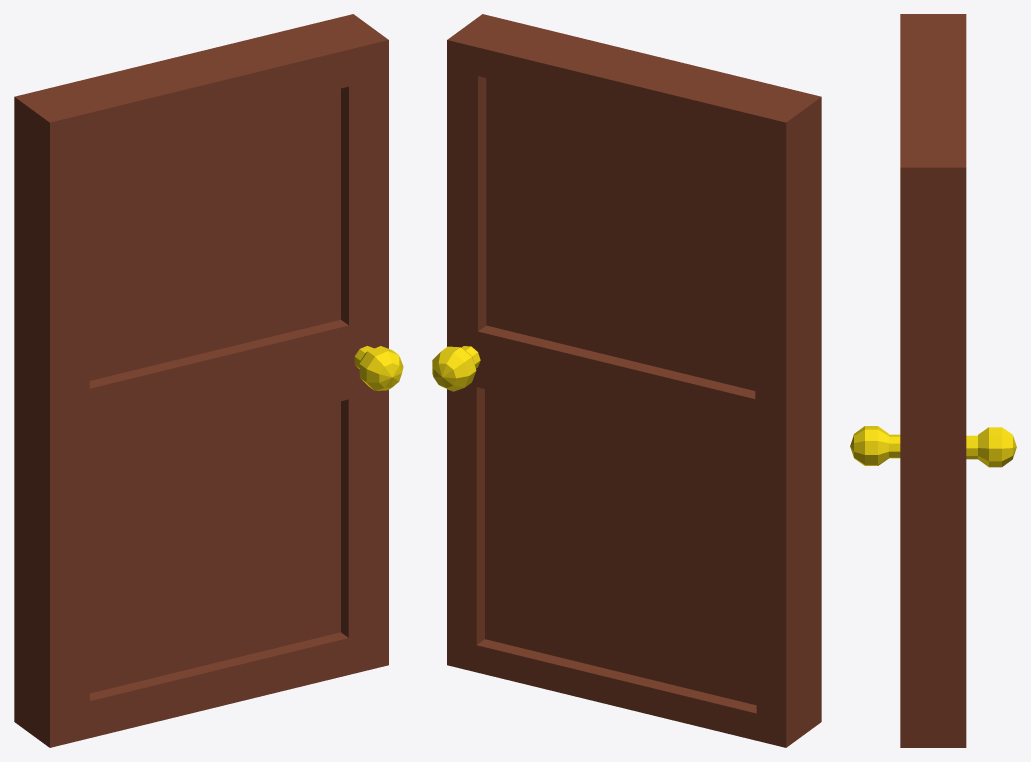
The model's file is Puerta.fbx.
3 renders of one model, left to right at view 1: azimuth 30°, elevation 25°; view 2: azimuth 150°, elevation 25°; view 3: azimuth 270°, elevation 25°, orthographic. The views are drawn at different scales.
Parts seen in each view (by area): view 1: pSphere4 (×2); view 2: pSphere4 (×2); view 3: pSphere4 (×2).
Boxes of the visible parts, x1,y1,x2,y2 form: pSphere4 (×2): (14, 14, 403, 747); pSphere4 (×2): (432, 14, 821, 747); pSphere4 (×2): (850, 14, 1016, 747).
Bounding box in the file's own units: 3.7 × 6.52 × 1.7.
